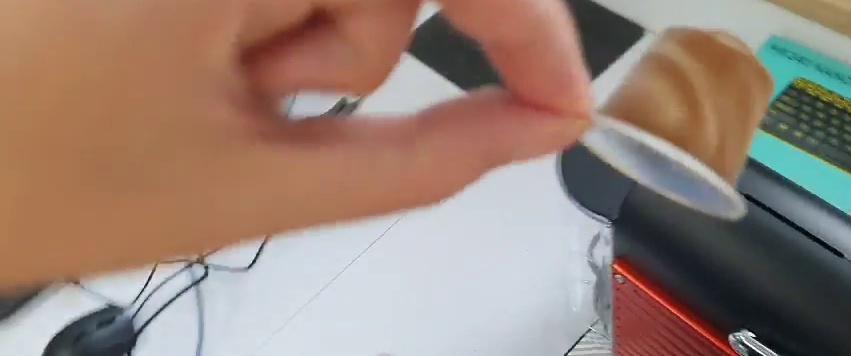capsule_12: (579, 20, 774, 225)
